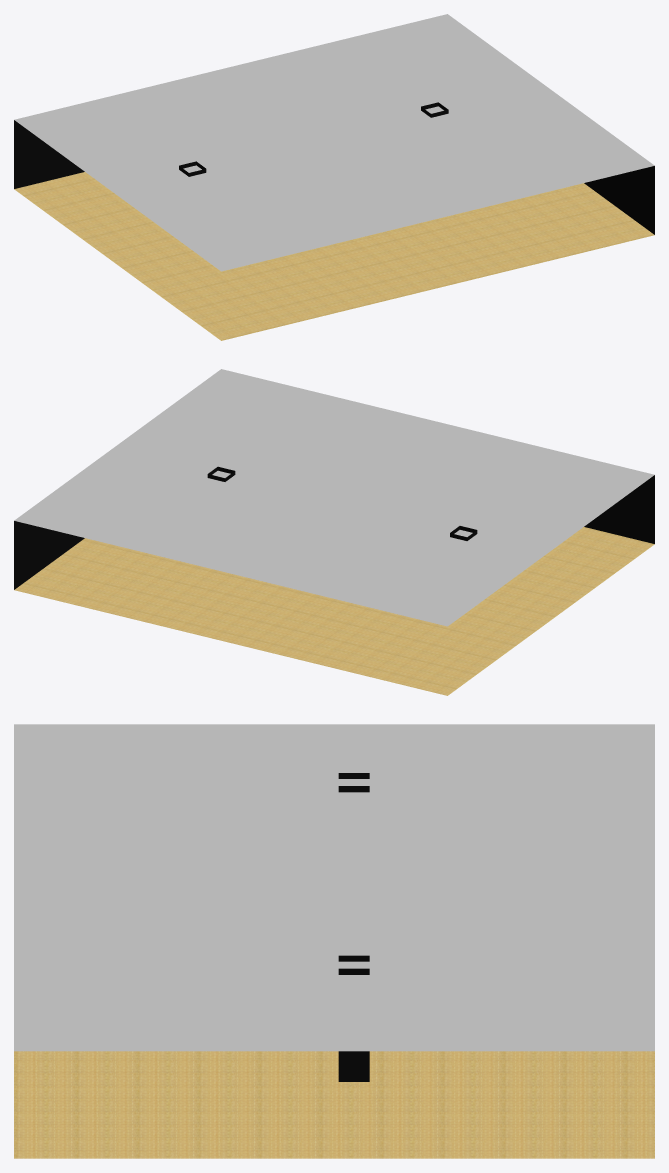
File: boc_contenedor.FBX
3 renders of one model, top to bottom at view 1: azimuth 30°, elevation 25°; view 2: azimuth 150°, elevation 25°; view 3: azimuth 270°, elevation 25°, orthographic. The views are drawn at different scales.
Visible parts, largest first — view 1: box_contenedor; view 2: box_contenedor; view 3: box_contenedor.
Part boxes in pixels (bbox=[...]): box_contenedor: bbox=[14, 14, 654, 340]; box_contenedor: bbox=[14, 369, 654, 695]; box_contenedor: bbox=[14, 724, 654, 1158].
Bounding box in the file's own units: 2492 × 425 × 2064.
